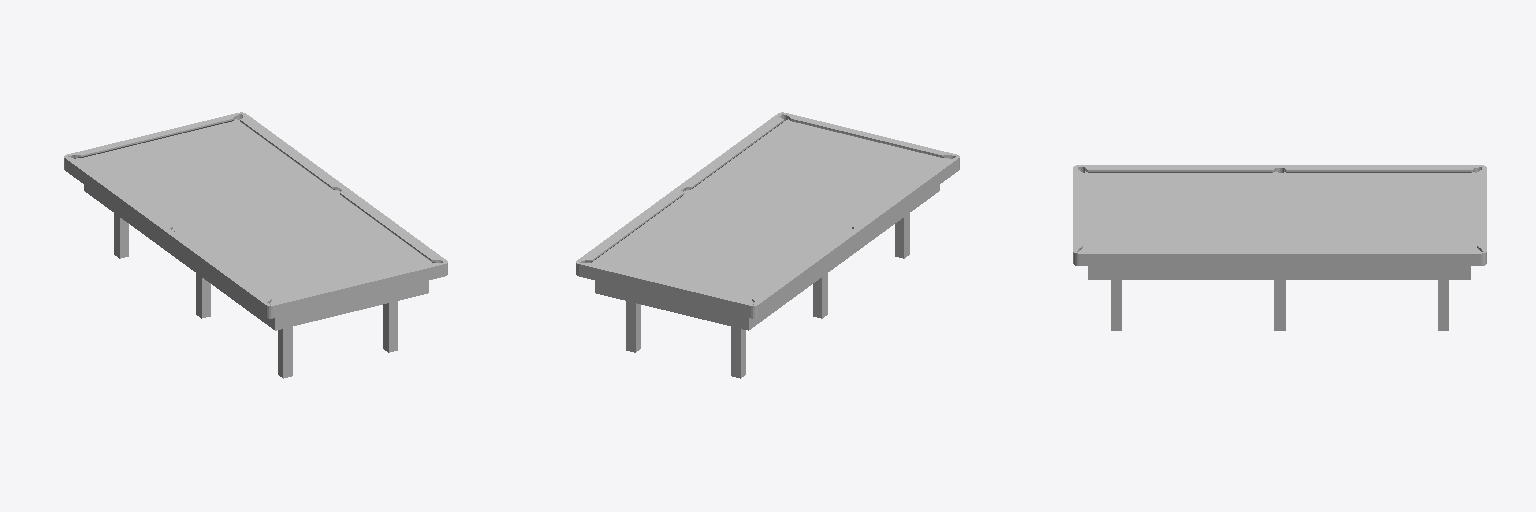
The model's file is table_snooker [full].obj.
3 renders of one model, left to right at view 1: azimuth 30°, elevation 25°; view 2: azimuth 150°, elevation 25°; view 3: azimuth 270°, elevation 25°, orthographic.
Visible parts, largest first — view 1: table_Cube.002, legs_Cube.003; view 2: table_Cube.002, legs_Cube.003; view 3: table_Cube.002, legs_Cube.003.
Boxes of the visible parts, x1,y1,x2,y2 form: table_Cube.002: [64, 112, 447, 318]; legs_Cube.003: [84, 185, 428, 378]; table_Cube.002: [576, 112, 959, 318]; legs_Cube.003: [595, 185, 939, 378]; table_Cube.002: [1073, 165, 1486, 265]; legs_Cube.003: [1088, 266, 1470, 330].
Bounding box in the file's own units: 1.88 × 0.924 × 3.71.